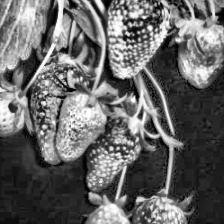Powdery Mildew Fruit: (29, 60, 92, 164), (105, 0, 171, 80), (86, 112, 144, 192), (55, 90, 108, 162), (131, 195, 187, 224), (81, 204, 130, 224)
